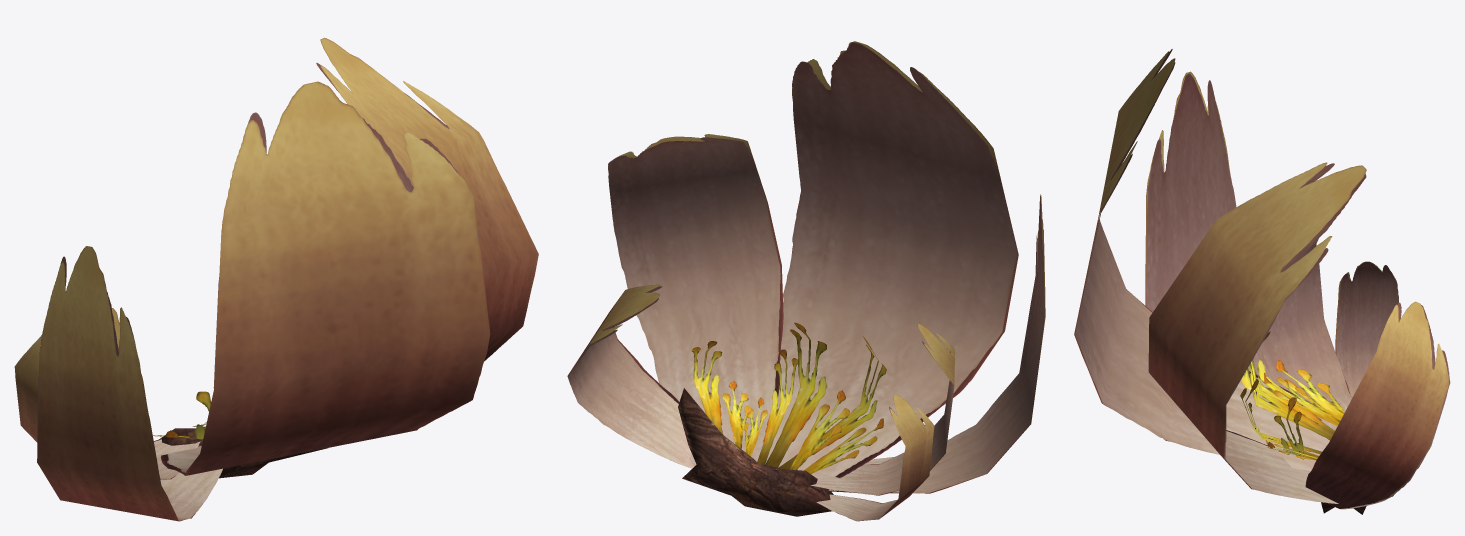
The model's file is yw_huanghunzhihu_shifenghua.FBX.
3 renders of one model, left to right at view 1: azimuth 30°, elevation 25°; view 2: azimuth 150°, elevation 25°; view 3: azimuth 270°, elevation 25°, orthographic. The views are drawn at different scales.
Visible parts, largest first — view 1: yw_huanghunzhihu_shifenghua; view 2: yw_huanghunzhihu_shifenghua; view 3: yw_huanghunzhihu_shifenghua.
Part boxes in pixels (x1,y1,x2,y2): yw_huanghunzhihu_shifenghua: (14, 37, 538, 521); yw_huanghunzhihu_shifenghua: (567, 41, 1045, 521); yw_huanghunzhihu_shifenghua: (1074, 49, 1450, 514).
Bounding box in the file's own units: 274 × 256 × 198.
